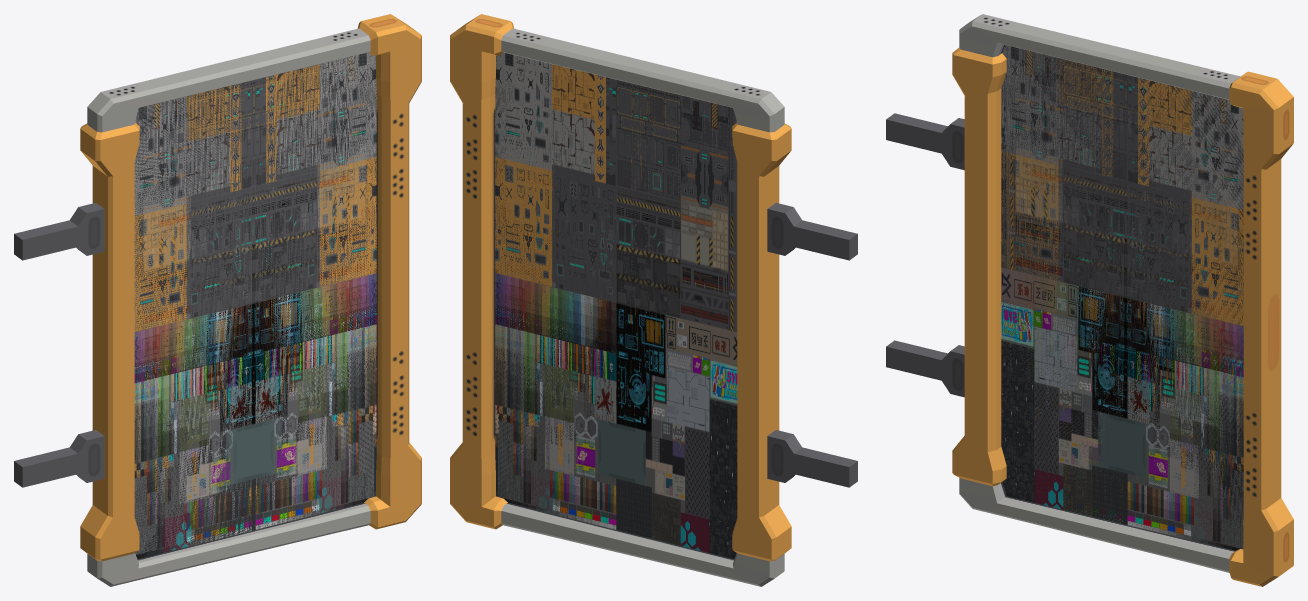
File: worlds_SM_Bld_Billboard_07.gltf
The picture shows the model from 3 angles, left to right: view 1: azimuth 30°, elevation 25°; view 2: azimuth 150°, elevation 25°; view 3: azimuth 330°, elevation 25°; orthographic projection.
Parts seen in each view (by area): view 1: SM_Bld_Billboard_07; view 2: SM_Bld_Billboard_07; view 3: SM_Bld_Billboard_07.
Boxes of the visible parts, <box> form: SM_Bld_Billboard_07: <box>14,14,421,586</box>; SM_Bld_Billboard_07: <box>450,14,857,586</box>; SM_Bld_Billboard_07: <box>886,14,1293,586</box>.
Size of the model in its own units: 1.42 by 1.7 by 0.1201.
Materials: 2 (2 with a texture image).
